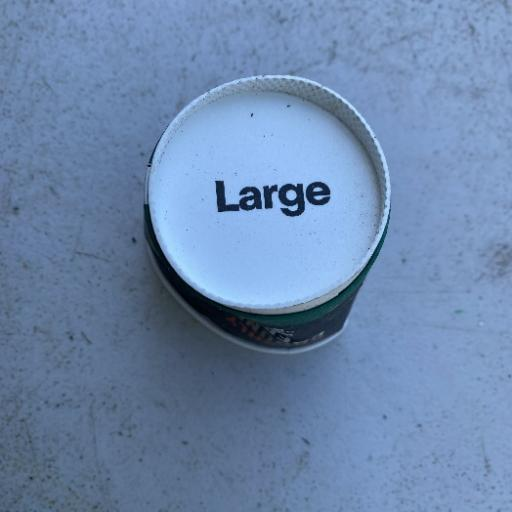Cardboard: (140, 72, 392, 356)
